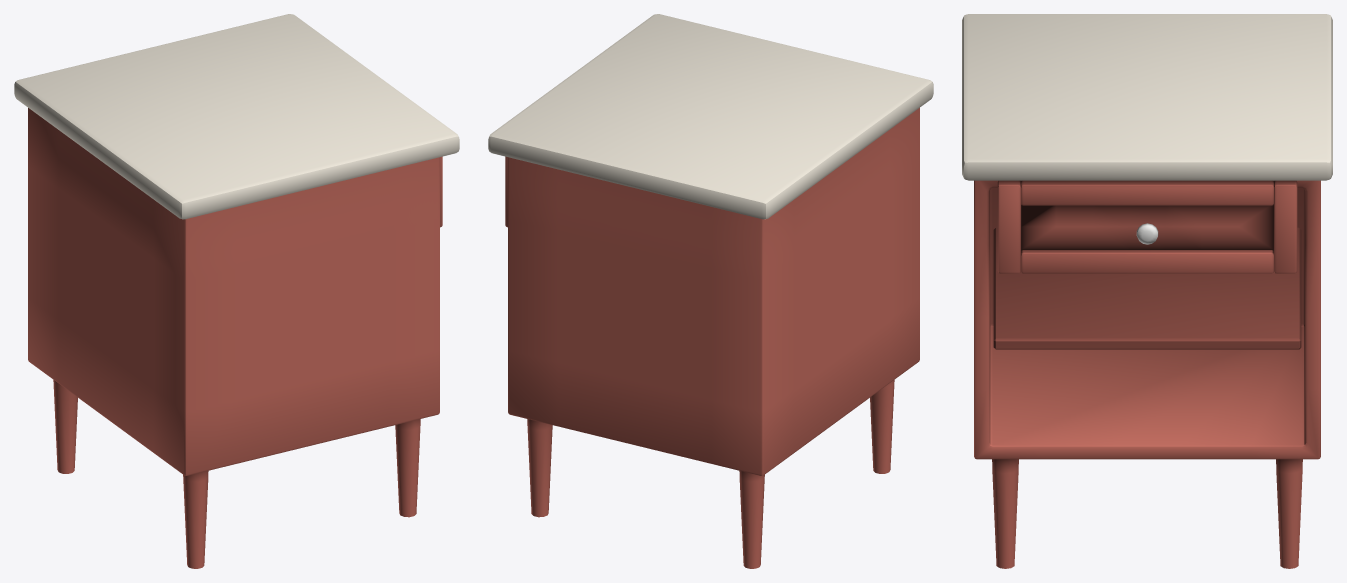
The model's file is nd_nightstand.glb.
The picture shows the model from 3 angles, left to right: view 1: azimuth 30°, elevation 25°; view 2: azimuth 150°, elevation 25°; view 3: azimuth 270°, elevation 25°; orthographic projection. The views are drawn at different scales.
Parts seen in each view (by area): view 1: PART; view 2: PART; view 3: PART, P_drawer_a.
Part boxes in pixels (x1,y1,x2,y2): PART: (14,14,459,568); PART: (488,14,933,568); PART: (962,14,1332,568); P_drawer_a: (997,180,1297,273).
Size of the model in its own units: 0.4701 by 0.59 by 0.47.
